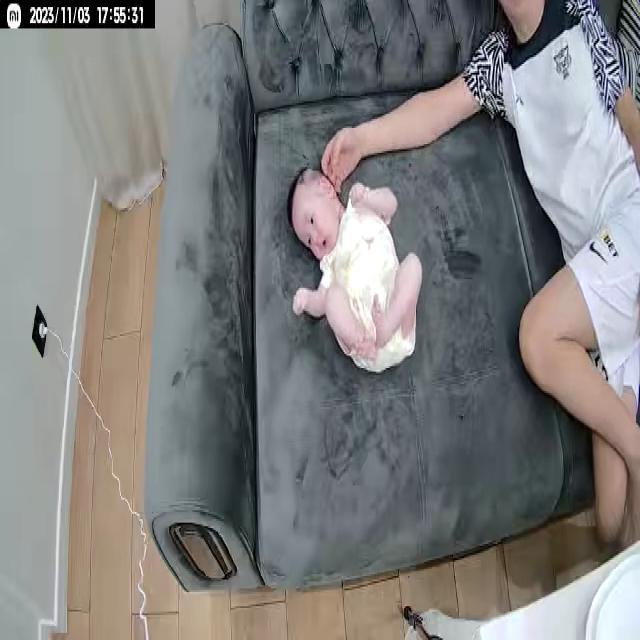baby: (286, 164, 422, 380)
